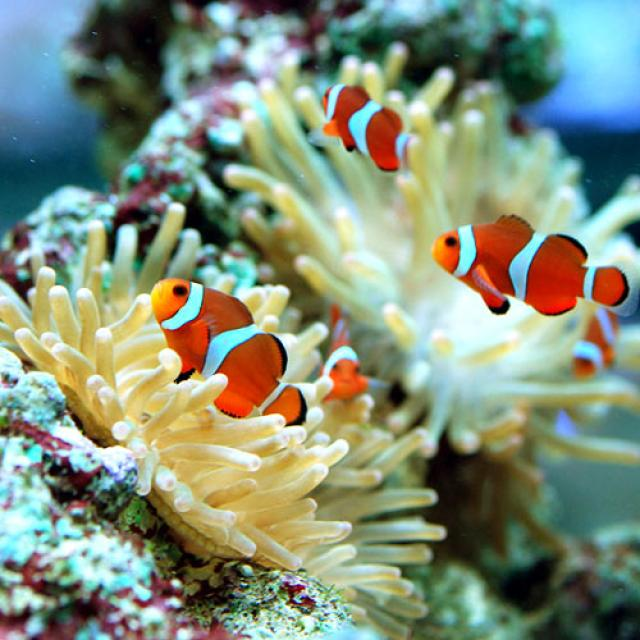ClownFish: (145, 279, 306, 435), (435, 212, 630, 317), (318, 78, 406, 181), (327, 306, 367, 408)
